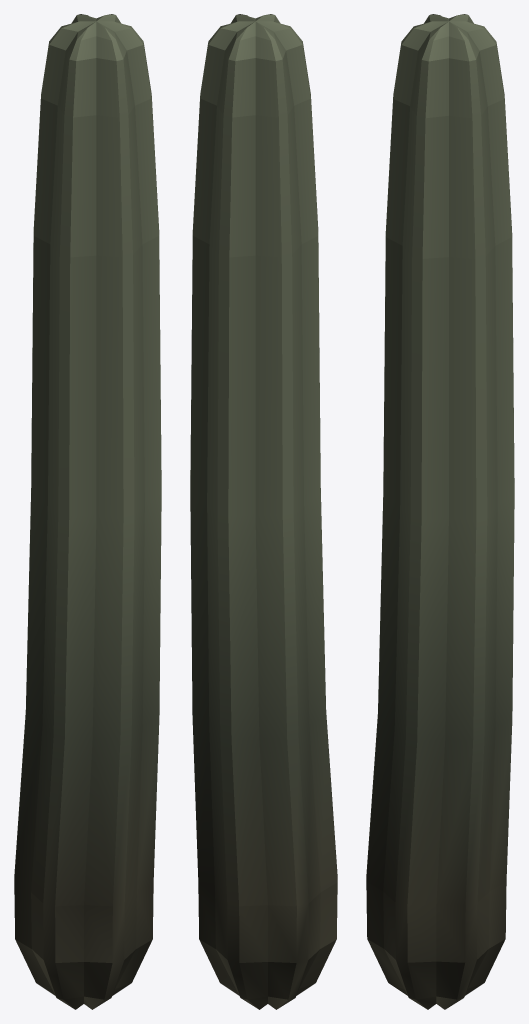
File: plants-cacti-succulents-pole-cactus_v4.glb
The picture shows the model from 3 angles, left to right: view 1: azimuth 30°, elevation 25°; view 2: azimuth 150°, elevation 25°; view 3: azimuth 330°, elevation 25°; orthographic projection.
Parts seen in each view (by area): view 1: Pole Cactus_v4; view 2: Pole Cactus_v4; view 3: Pole Cactus_v4.
Boxes of the visible parts, x1,y1,x2,y2 form: Pole Cactus_v4: [14, 14, 161, 1009]; Pole Cactus_v4: [190, 14, 337, 1009]; Pole Cactus_v4: [366, 14, 514, 1009].
Size of the model in its own units: 0.1912 by 1.5 by 0.1934.
